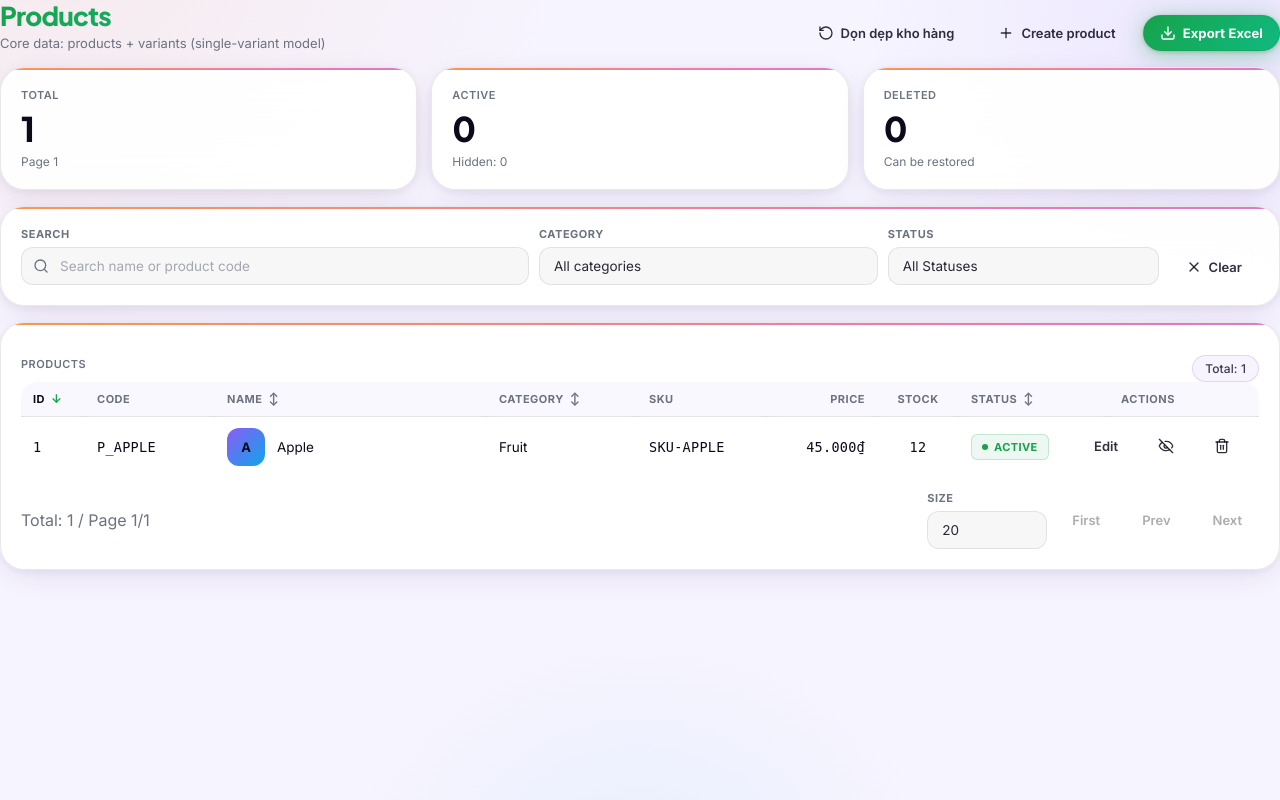
Test: ProductsPage › keeps submit disabled until required product and variant data are valid
Click the button "Create product" at [1057, 33], box [981,15,1133,51]
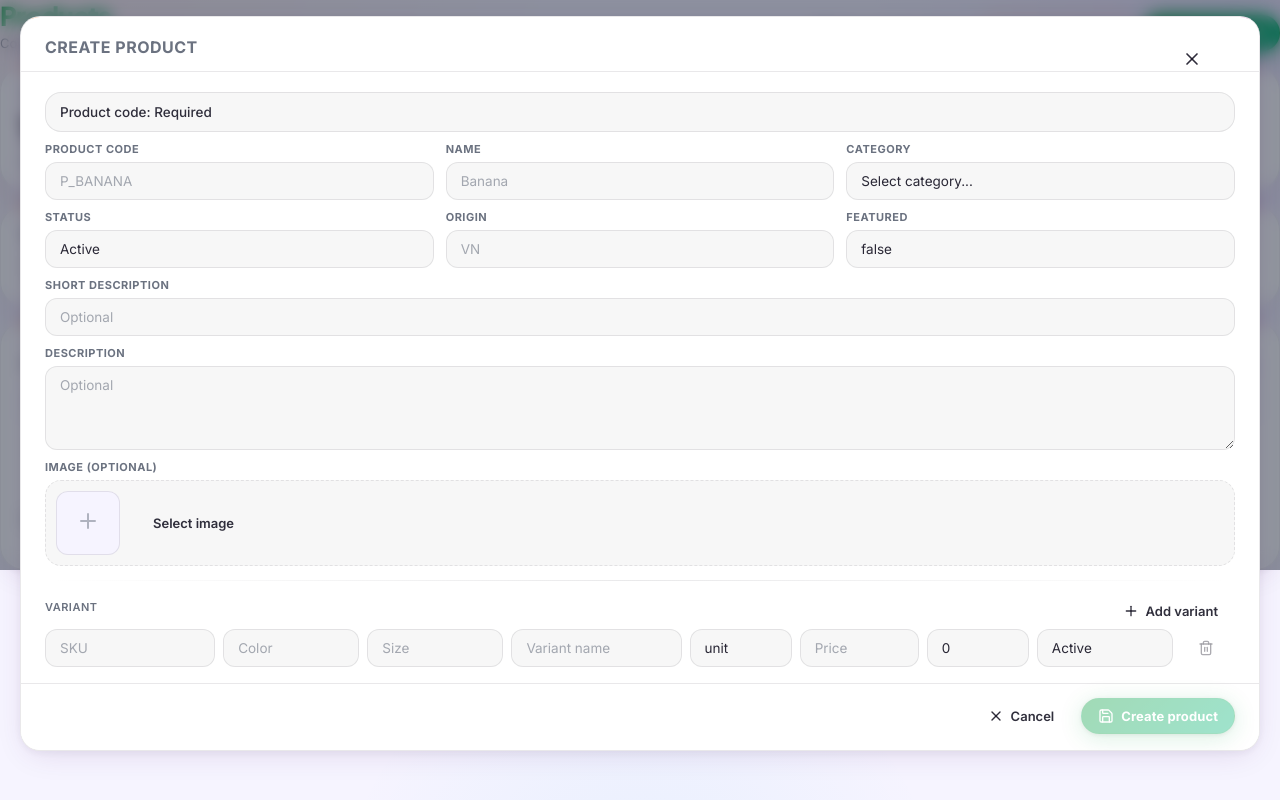
Expected: the button "Create product" is disabled, [1081,698,1235,734]
